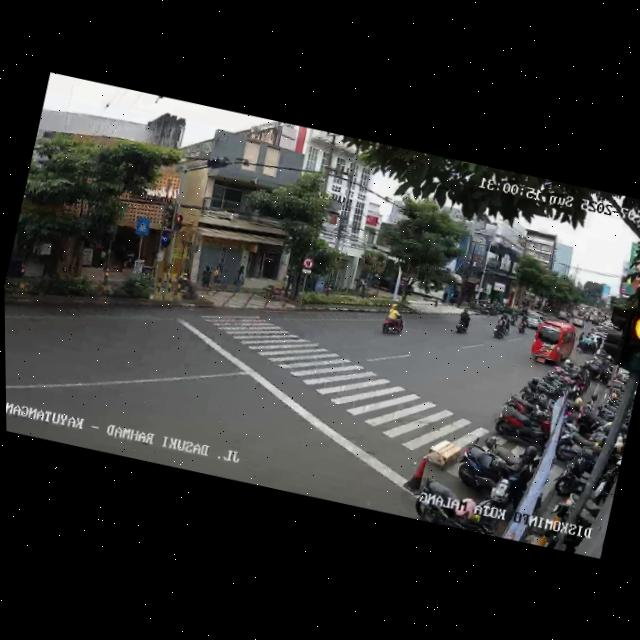car: (527, 316, 579, 370)
motorcycle: (378, 303, 409, 339), (489, 311, 512, 342), (452, 304, 474, 336), (515, 312, 530, 333)
